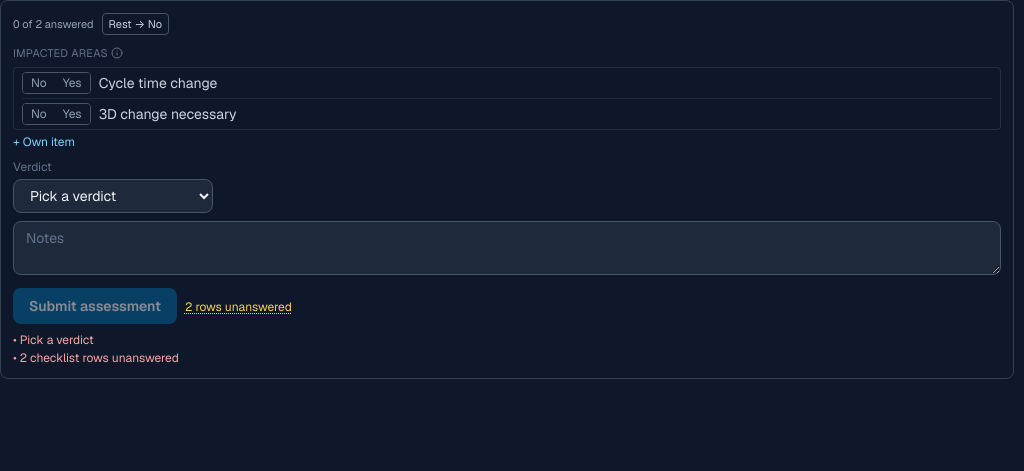
Scenario: AssessmentSubmitForm Rest → No › fills only the unanswered rows with No and marks them
Later steps or results of the test are not shown.
What coordinates should you click on to do the following:
click the button with test id "check-yes-threed_change"
I would click on:
 (72, 114)
Its box is [55,104,90,124].
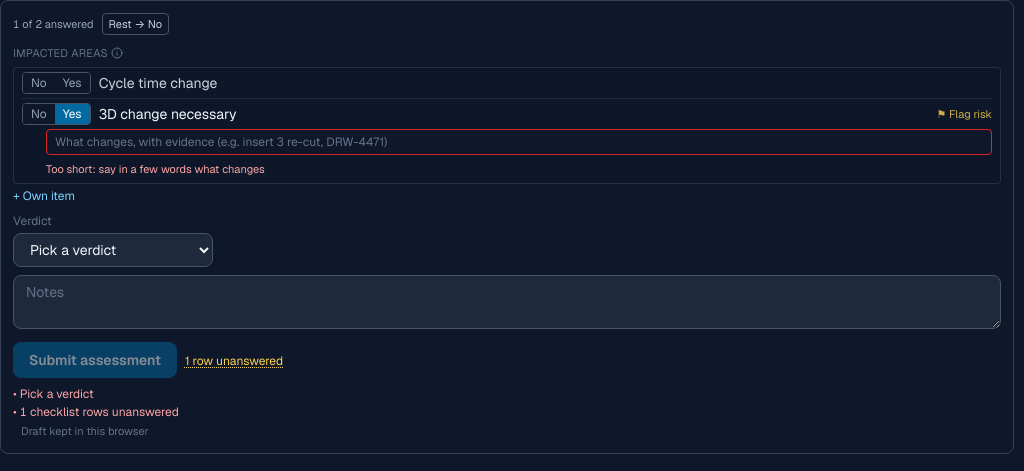
What coordinates should you click on to do the following:
click the button with test id "check-rest-no"
I would click on:
 (135, 24)
Its box is [102,13,169,35].
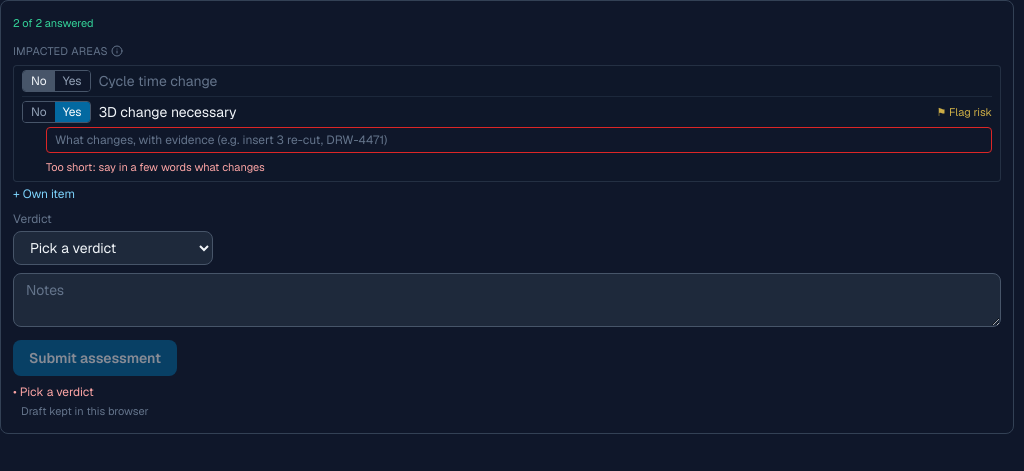
Check: the text with test id "check-progress" shows "2 of 2", box [13,16,94,30]
Check: the button with test id "check-rest-no" is gone
